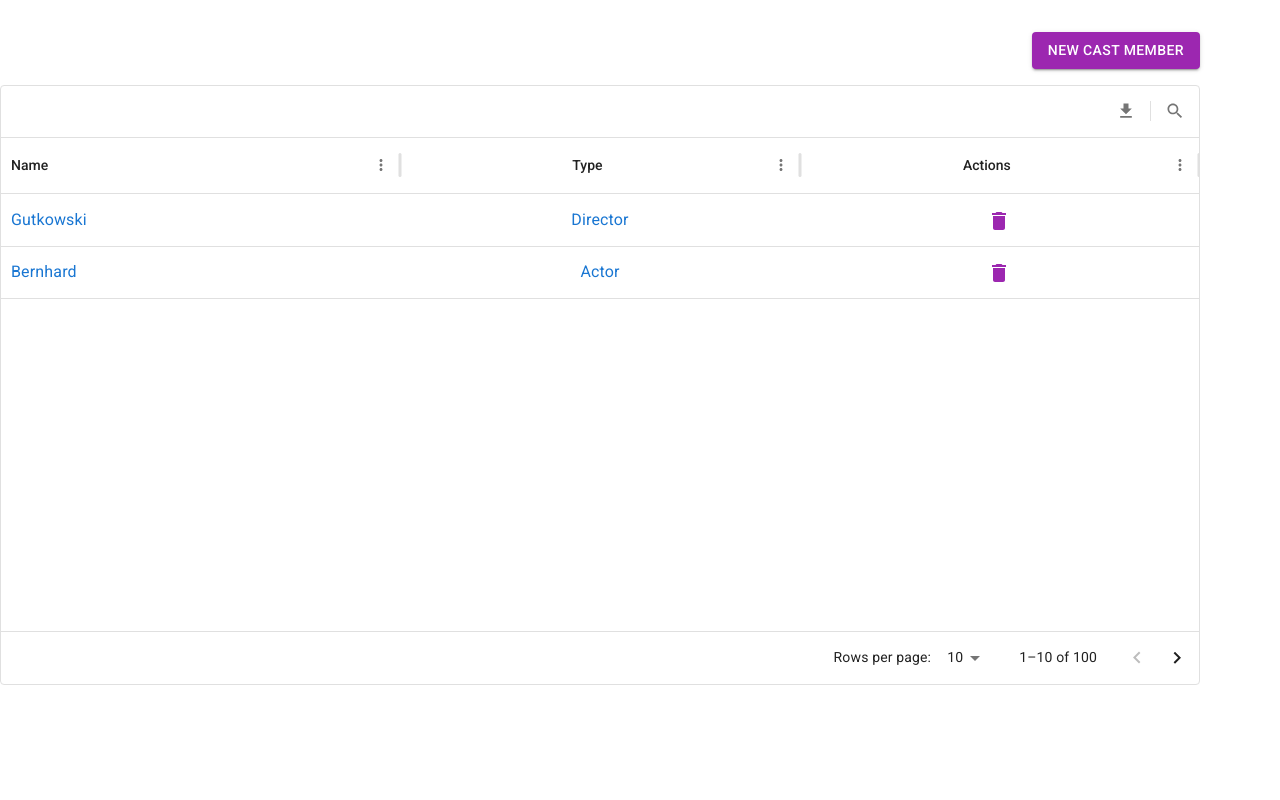
Scenario: ListCastMember › should handle delete category error
The image size is (1280, 800).
Expected: the text "Gutkowski" is shown, [11,208,87,232]
Click the button with test id "delete-button" in the row of "Gutkowski": point(999, 221) [979,201,1019,241]
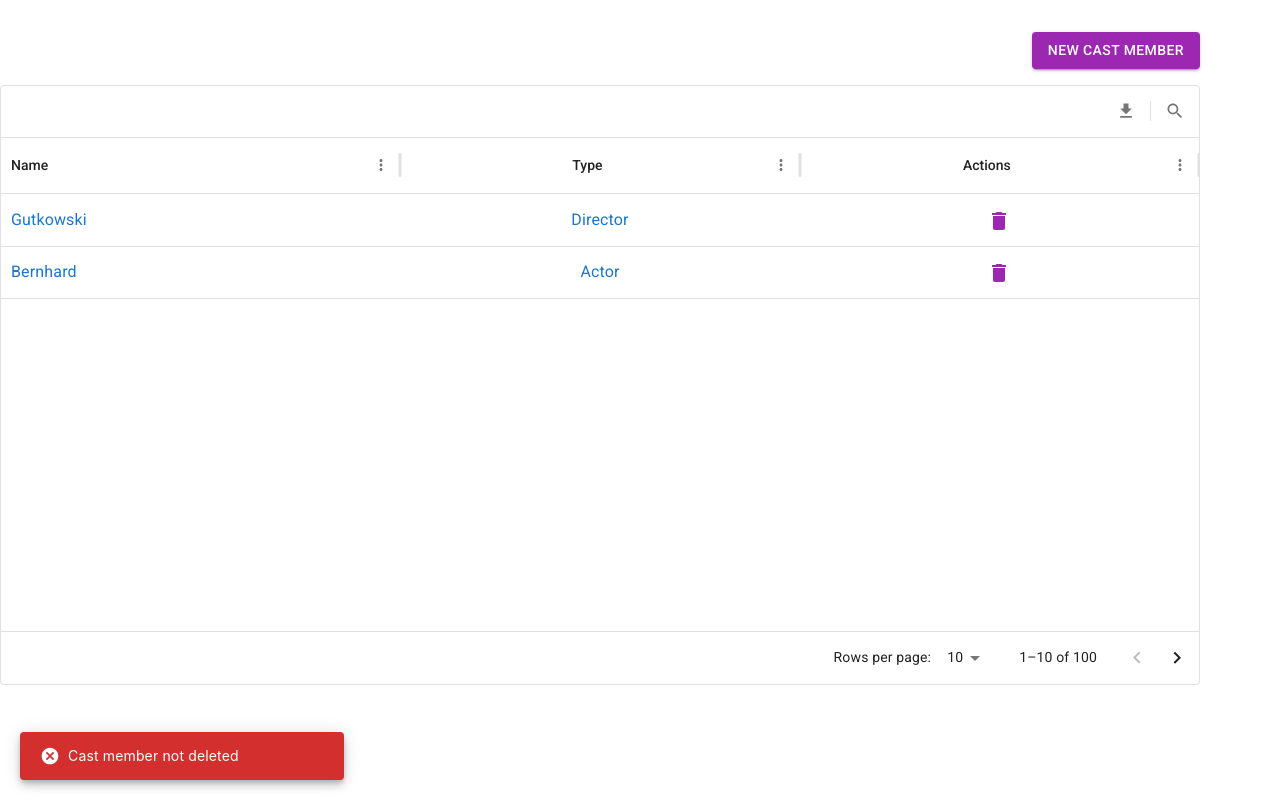
Expected: the text "Cast member not deleted" is shown, [40,746,239,766]
